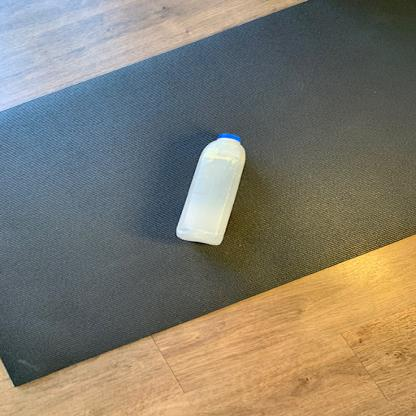trash: (176, 134, 248, 248)
